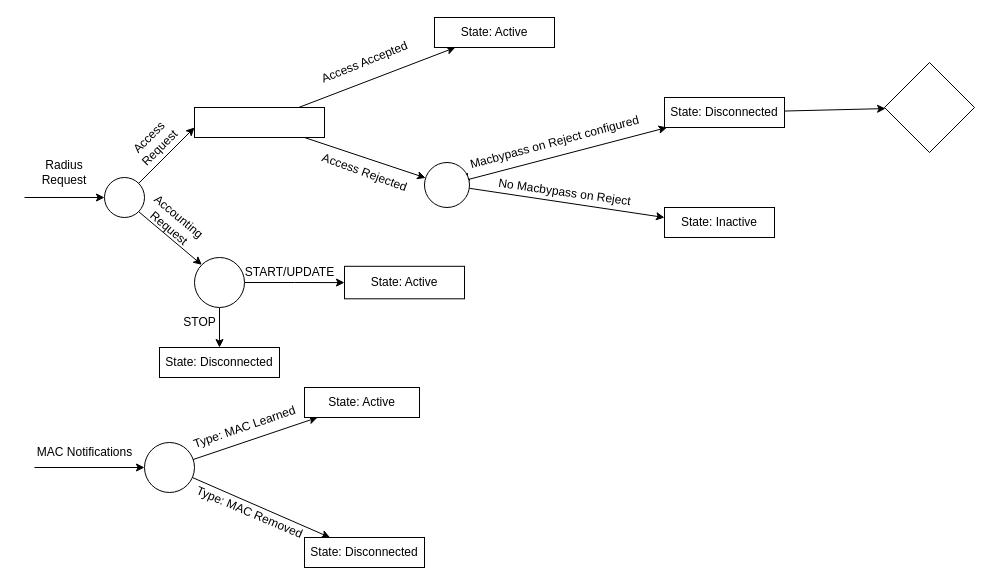
This 992x585 diagram has some shape labels left out. Each missing label, with the box of its shape:
State: Connecting: (194, 106, 324, 138)
Triggers Macbypass: (884, 62, 974, 152)
